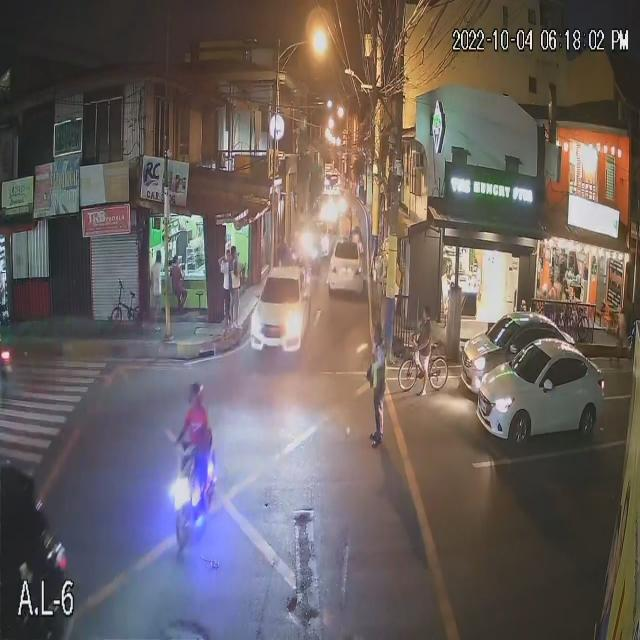helmet: (184, 379, 204, 405)
motorcycle: (169, 470, 216, 536)
rider: (183, 410, 201, 465)
